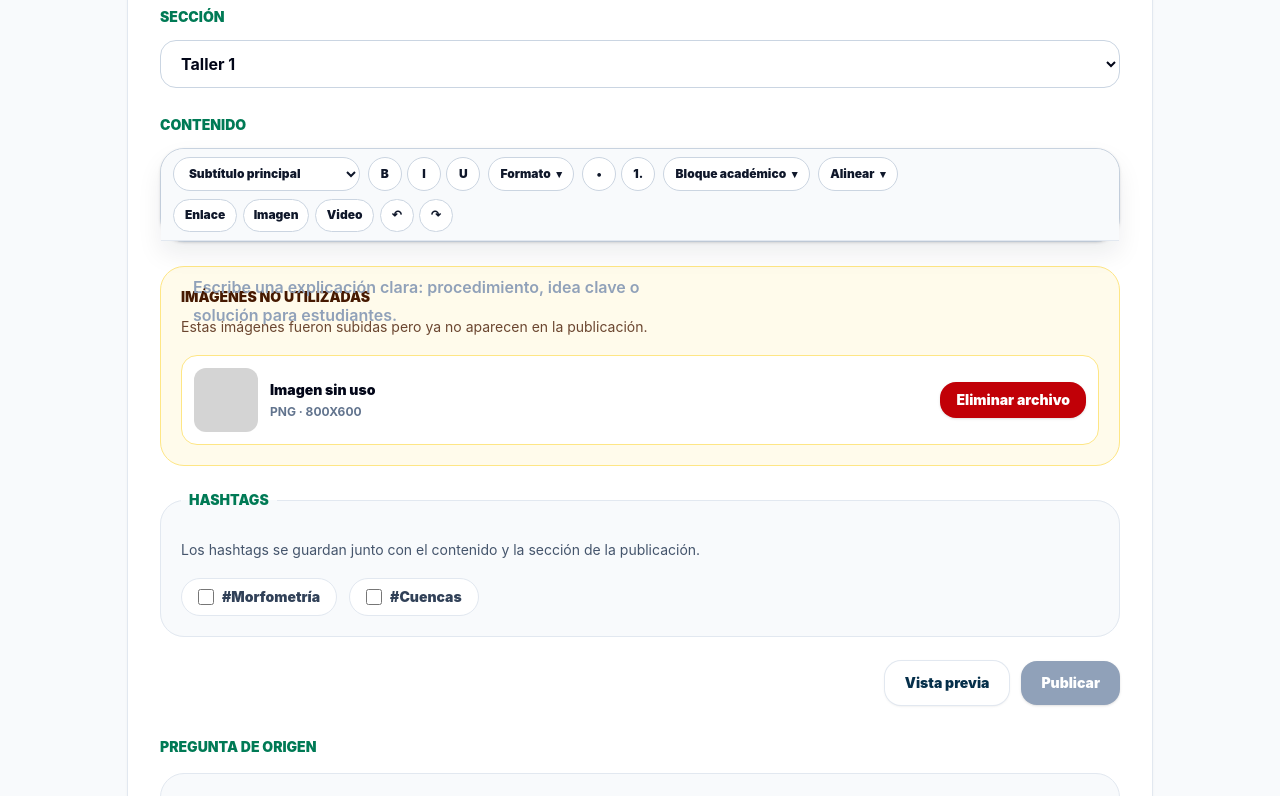
Test: AdminPostEditorView › keeps an unused image visible when deletion fails
(page scrolled)
Click the button "Eliminar archivo".
click(1013, 400)  # box [940,382,1086,418]
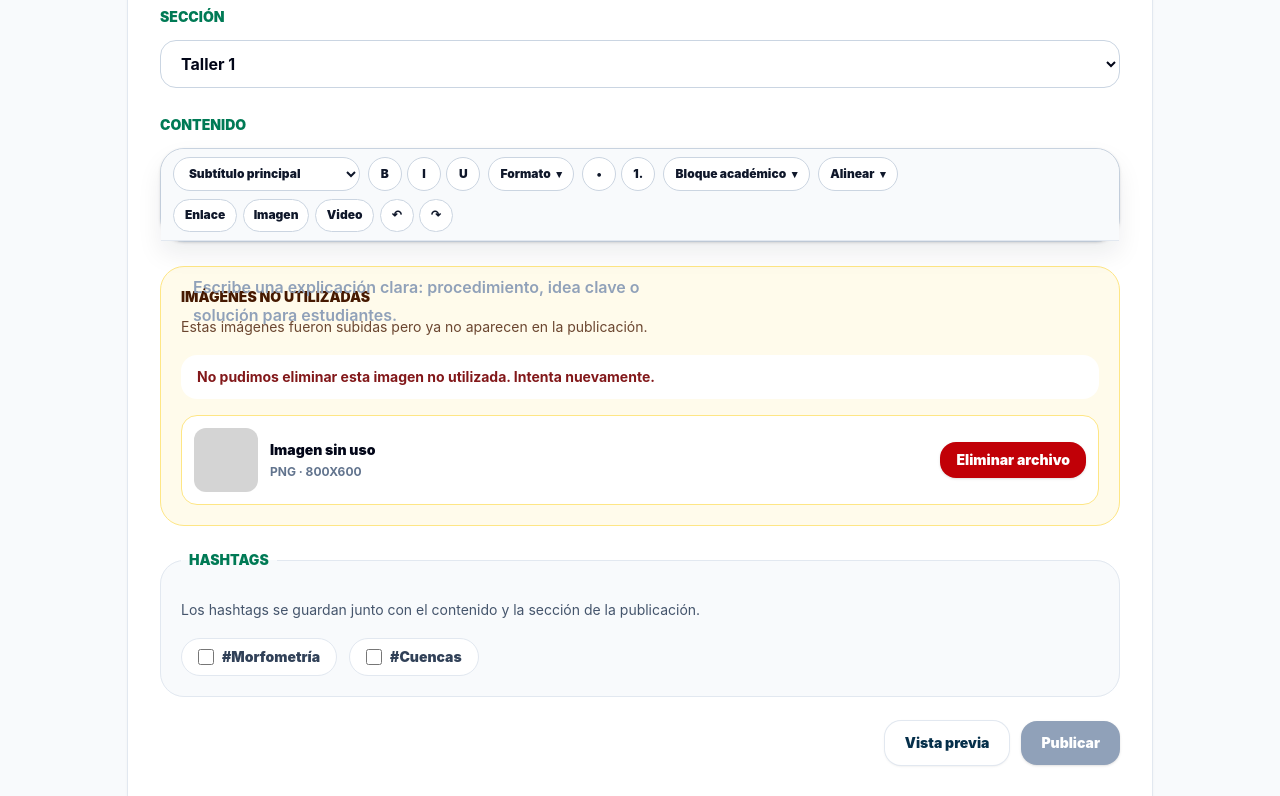
Now the text "No pudimos eliminar esta imagen no utilizada." is shown, box [197,368,655,385]
